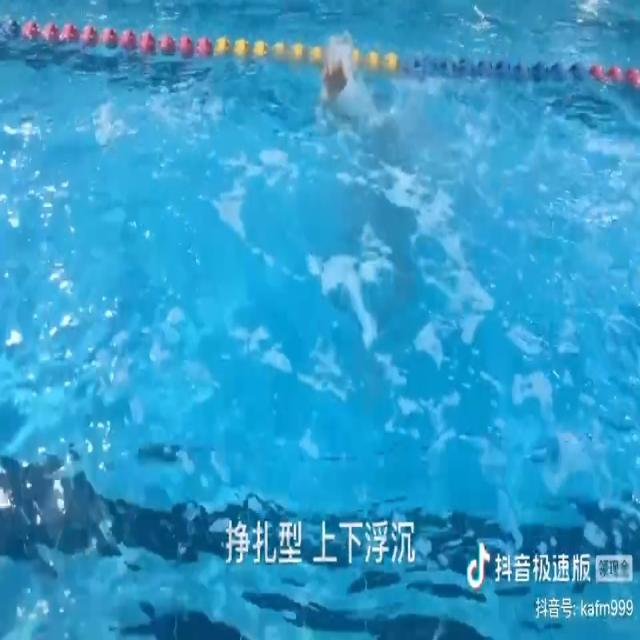Drowning: (310, 50, 424, 184)
